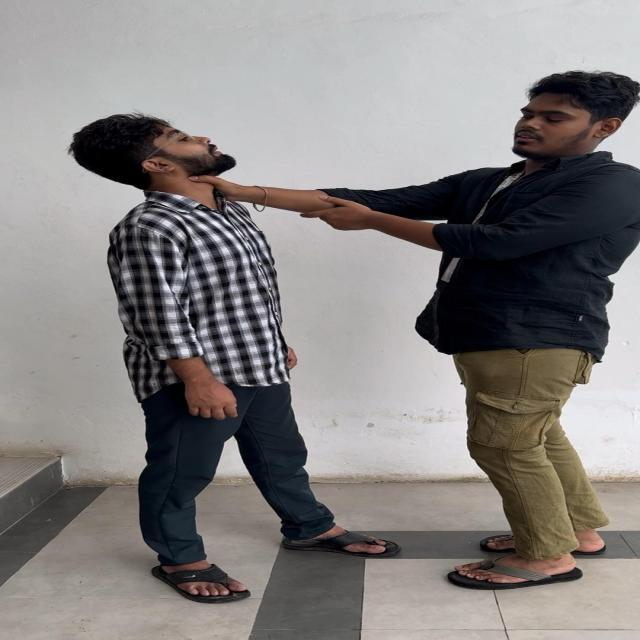fight: (38, 65, 640, 596)
